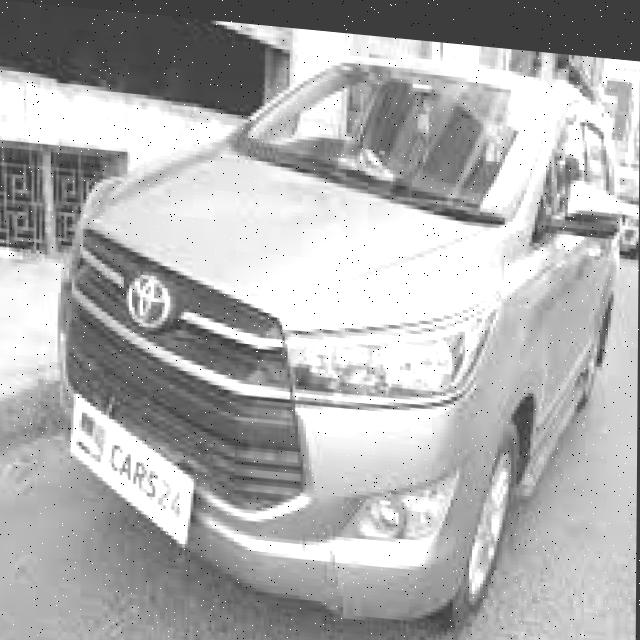car: (54, 4, 626, 624)
